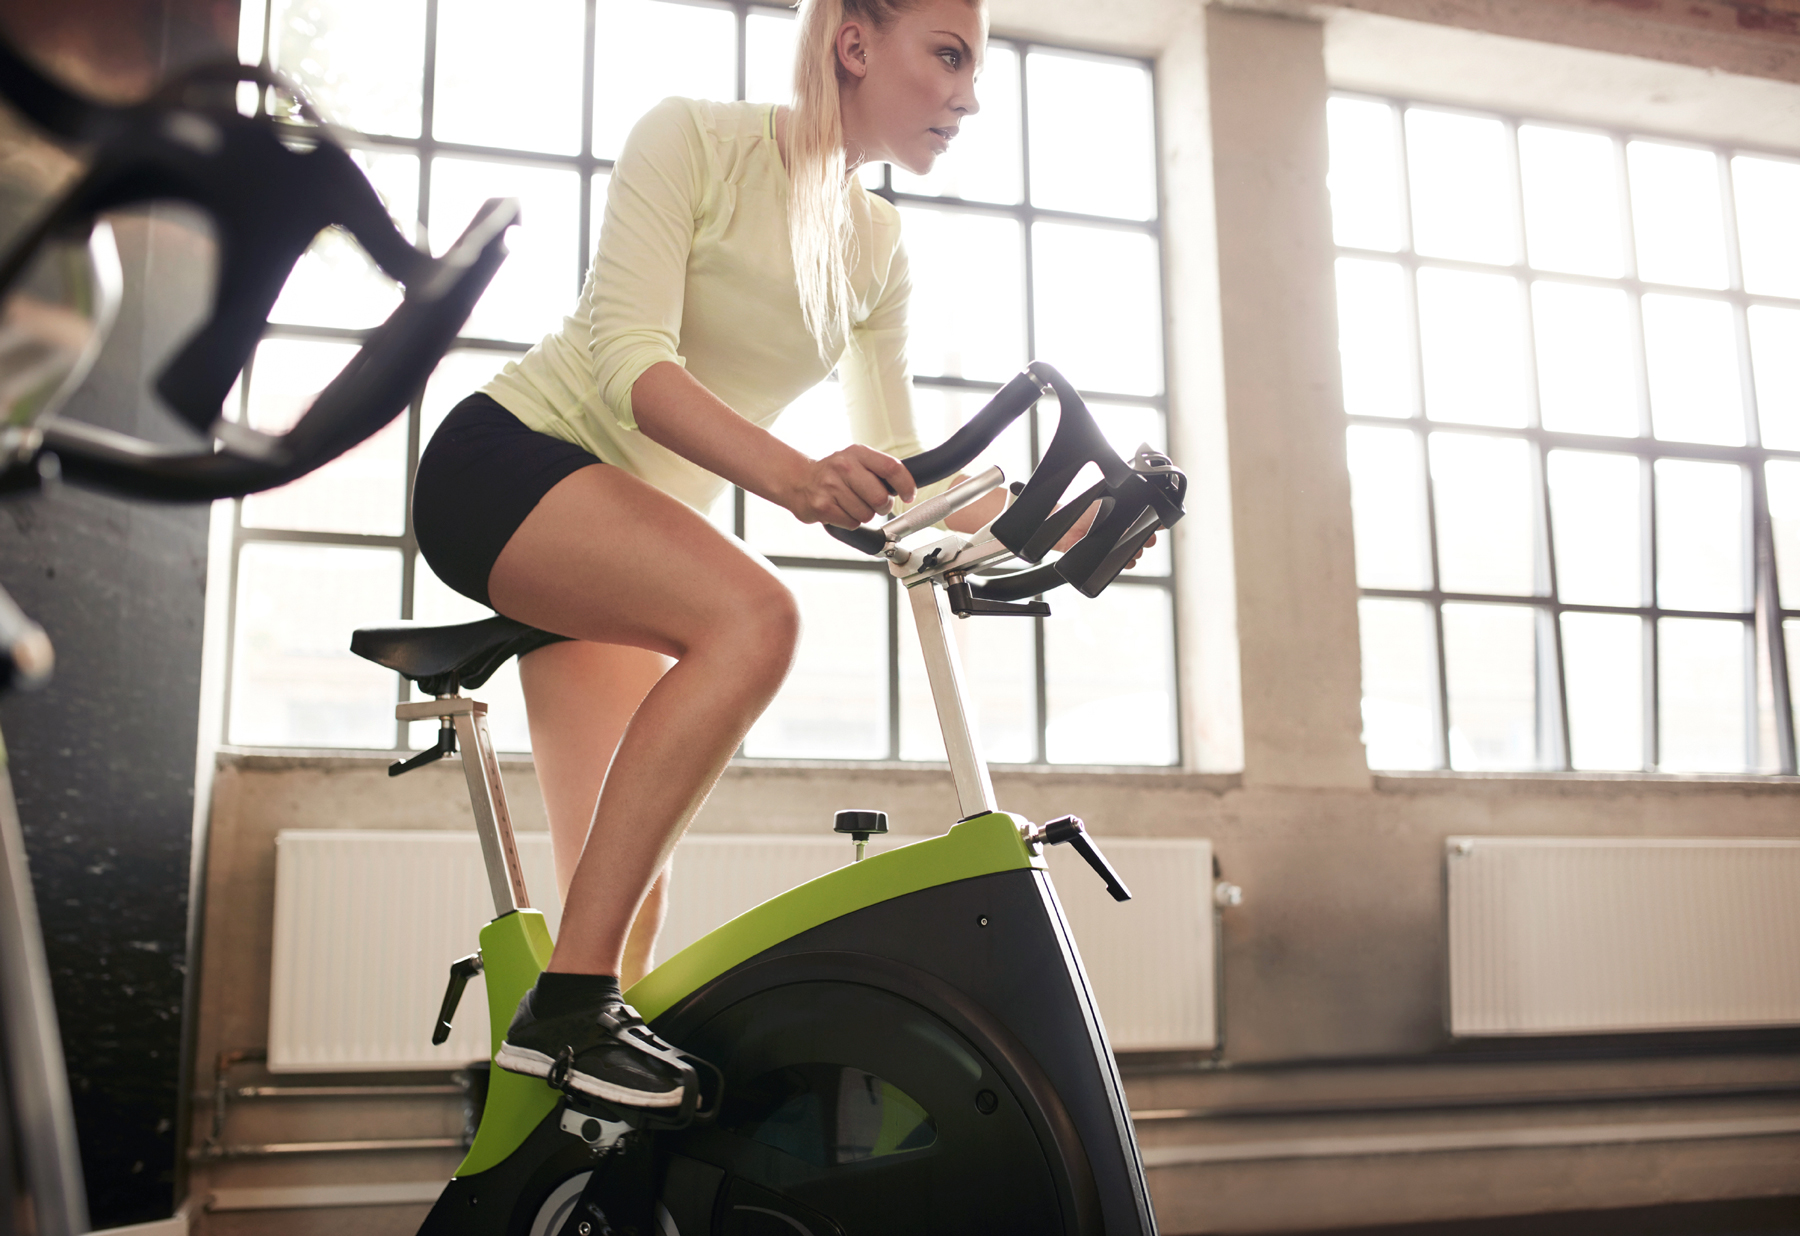gym_bike: (295, 444, 1169, 1236)
